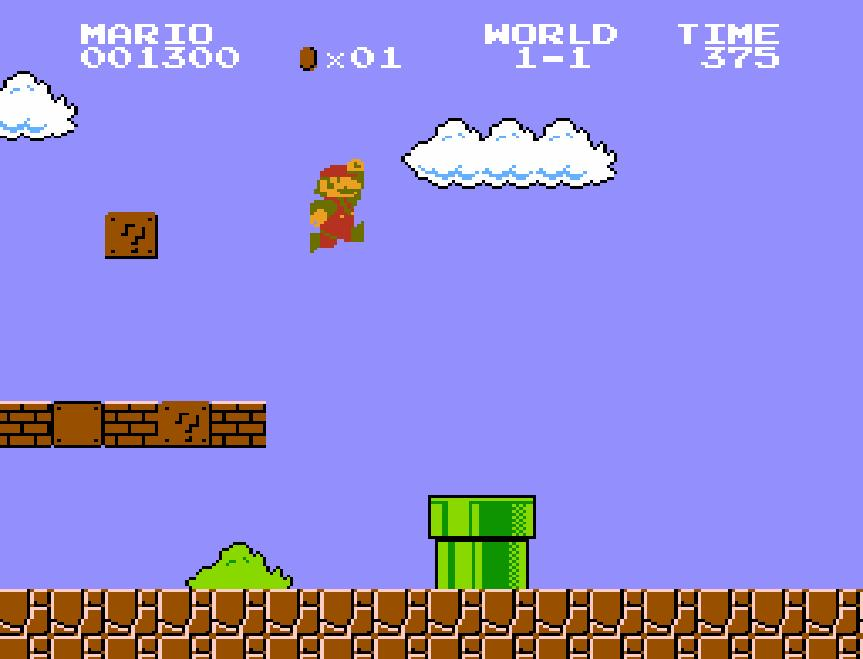big_mario: (308, 156, 366, 254)
